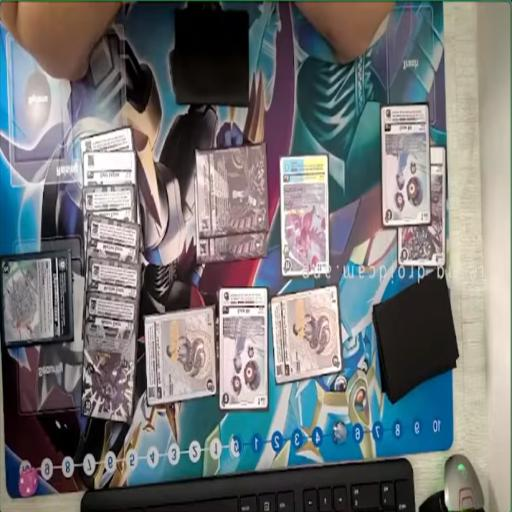card: (82, 291, 139, 424), (143, 303, 216, 406), (272, 284, 343, 384), (194, 144, 270, 234), (0, 256, 74, 344), (220, 288, 270, 412), (380, 100, 428, 229), (279, 157, 331, 275), (398, 145, 445, 269), (84, 216, 143, 268), (195, 228, 267, 264), (84, 260, 142, 300), (85, 148, 138, 188), (82, 186, 136, 224), (79, 122, 138, 156)
